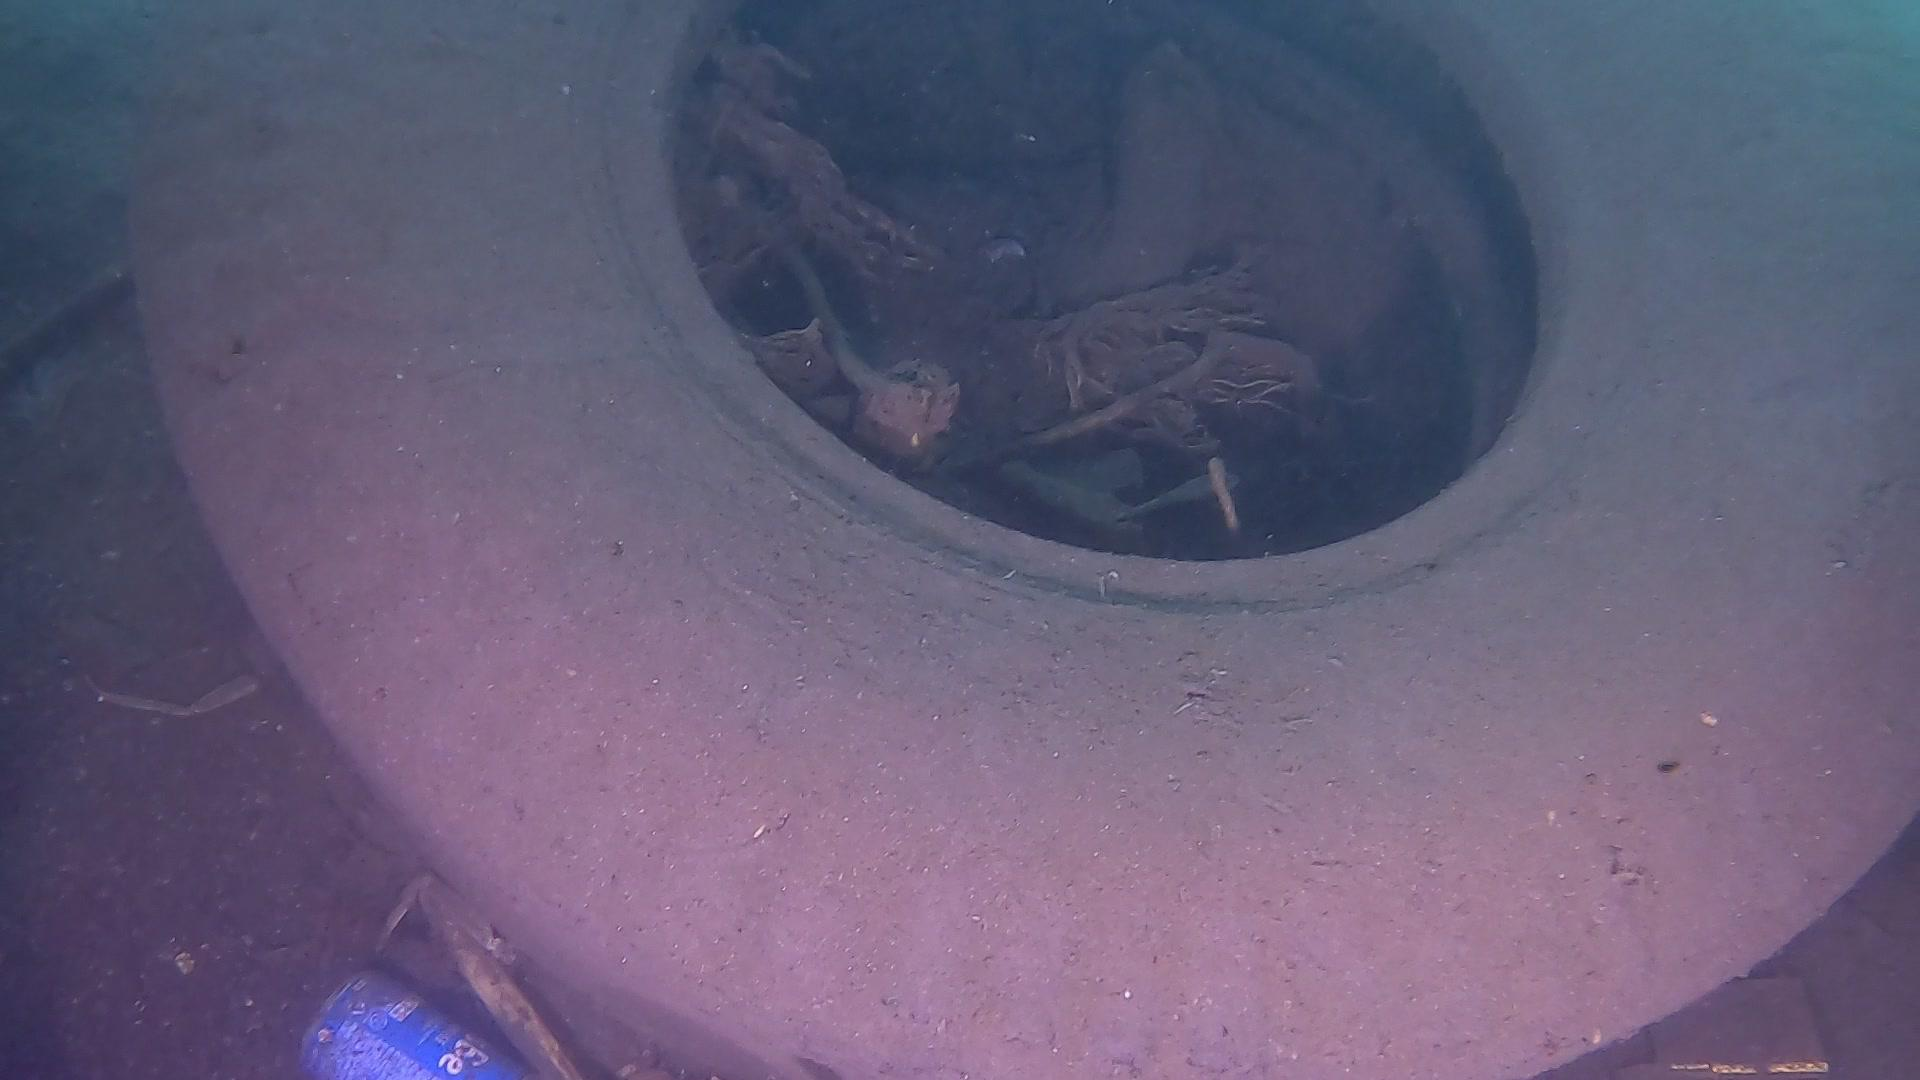tire: (123, 0, 1920, 1080)
